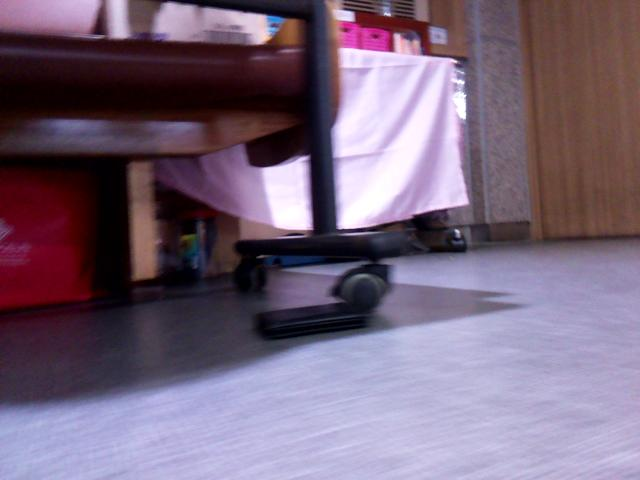wallet: (249, 281, 381, 347)
